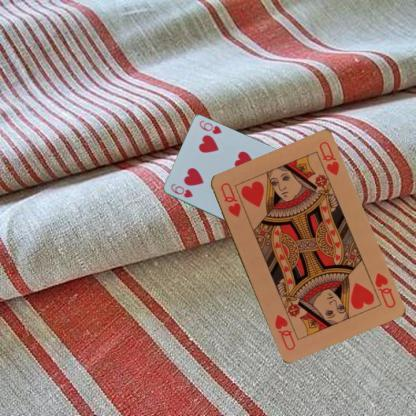6h: (168, 182, 194, 199)
Qh: (371, 270, 397, 309), (217, 180, 242, 218)
